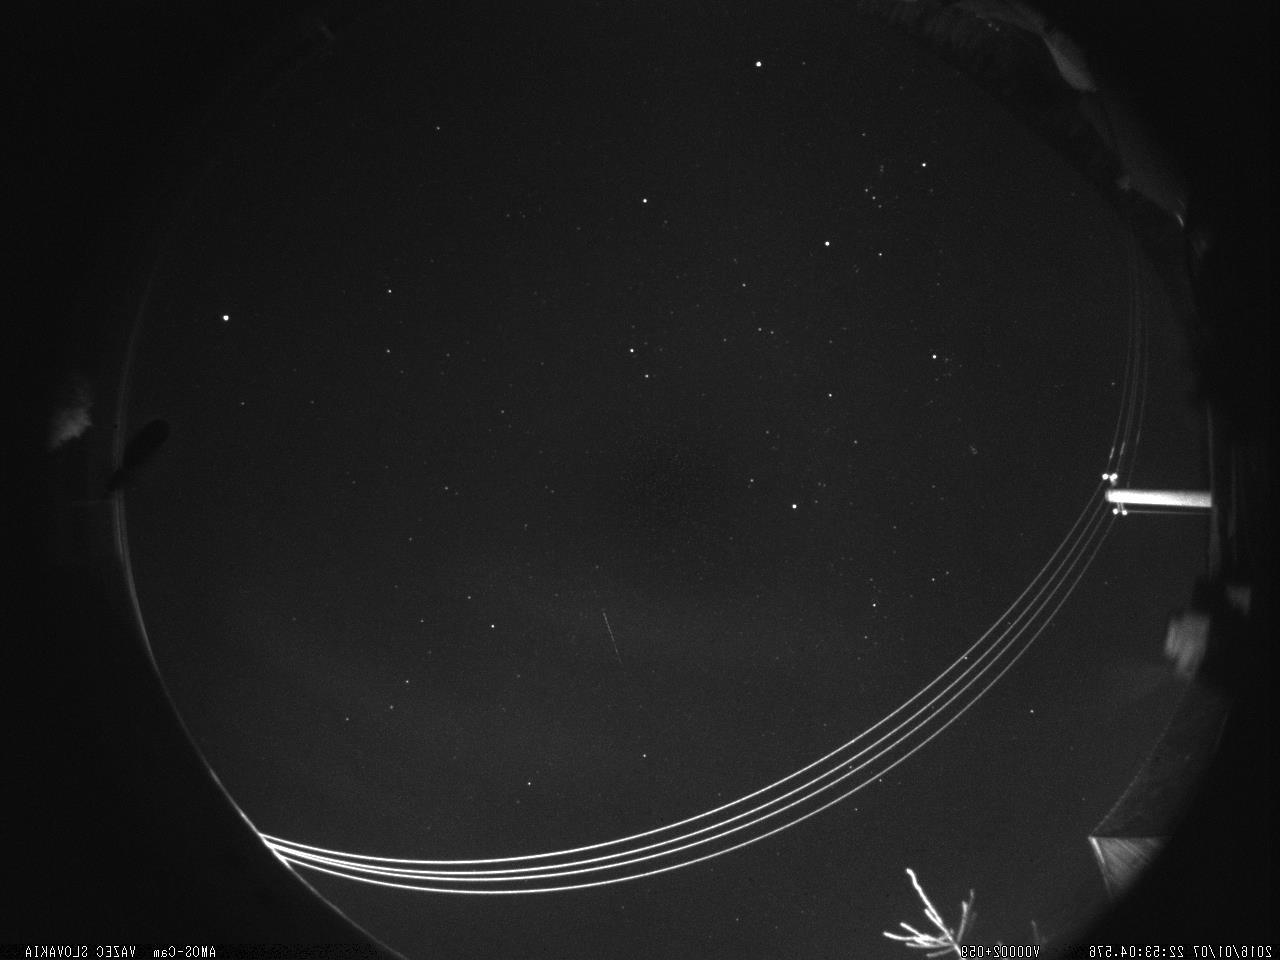meteor: (593, 591, 630, 691)
